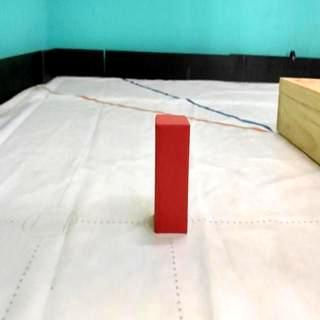redbox: (154, 113, 190, 233)
